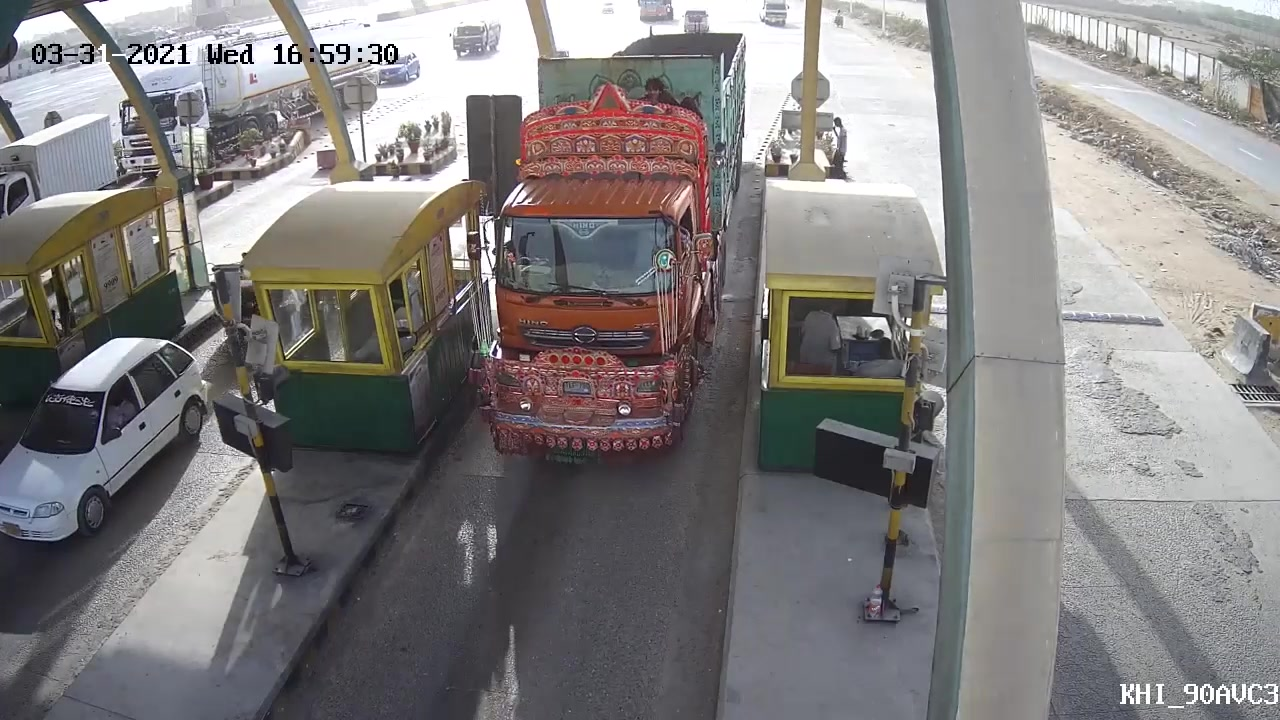F5: (474, 24, 755, 474)
